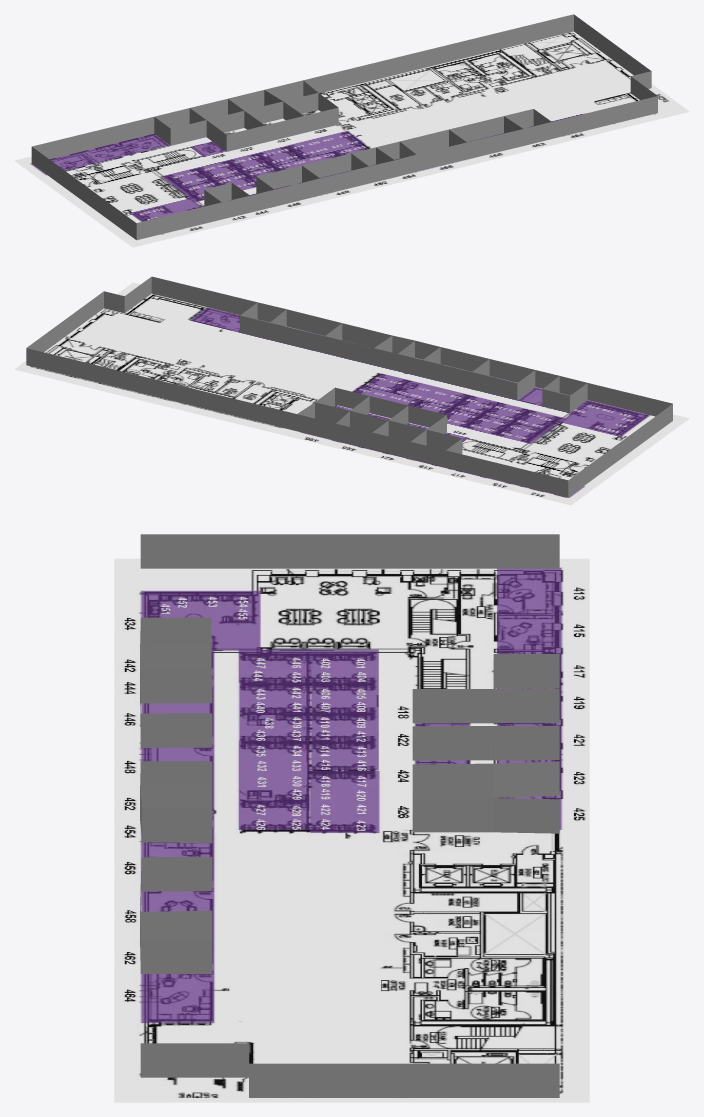
The model's file is floorplan_4th.glb.
The picture shows the model from 3 angles, top to bottom: view 1: azimuth 30°, elevation 25°; view 2: azimuth 150°, elevation 25°; view 3: azimuth 270°, elevation 25°; orthographic projection. The views are drawn at different scales.
Parts seen in each view (by area): view 1: fouthfloor, Plane; view 2: fouthfloor, Plane; view 3: fouthfloor, Plane.
Part boxes in pixels (x1=…): fouthfloor: x1=14, y1=31, x2=689, y2=247; Plane: x1=31, y1=14, x2=657, y2=240; fouthfloor: x1=14, y1=282, x2=689, y2=505; Plane: x1=26, y1=276, x2=672, y2=497; fouthfloor: x1=114, y1=558, x2=589, y2=1102; Plane: x1=140, y1=534, x2=559, y2=1097.
Size of the model in its own units: 4.6 by 0.1354 by 1.7.
Materials: 2 (1 with a texture image).
